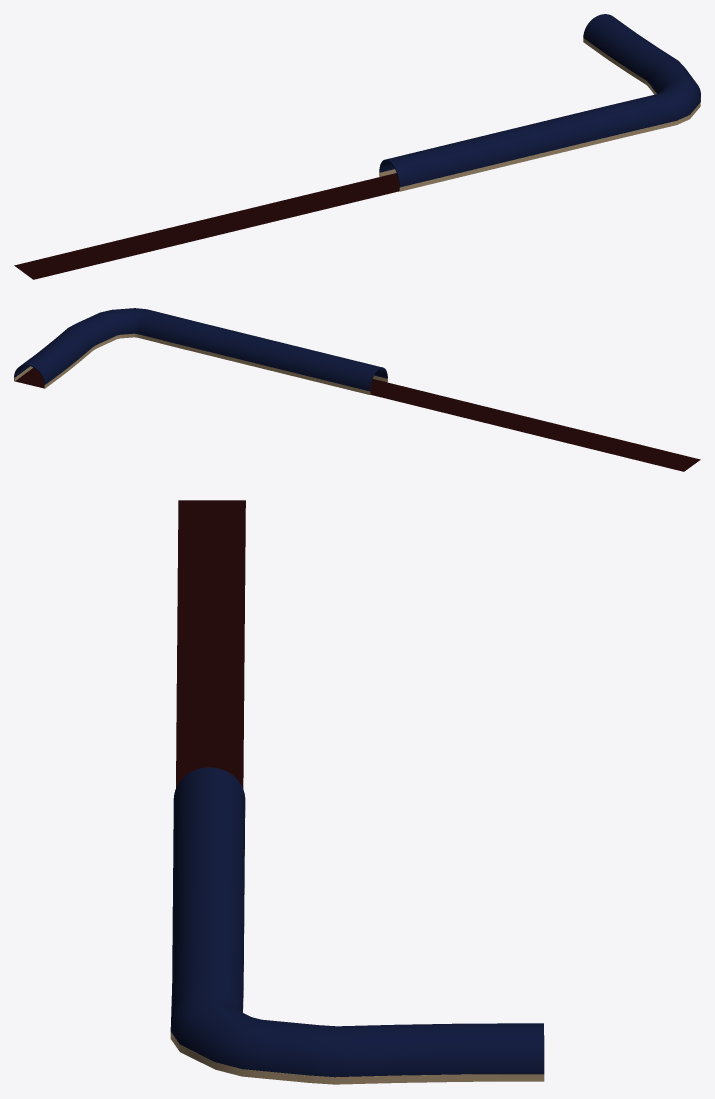
The model's file is tunnel.fbx.
3 views of the same model, one above another, from view 1: azimuth 30°, elevation 25°; view 2: azimuth 150°, elevation 25°; view 3: azimuth 270°, elevation 25° (orthographic). The views are drawn at different scales.
Parts seen in each view (by area): view 1: geo2; view 2: geo2; view 3: geo2.
Boxes of the visible parts, bbox=[...] form: geo2: bbox=[14, 14, 700, 279]; geo2: bbox=[14, 308, 700, 471]; geo2: bbox=[170, 500, 544, 1084].
Size of the model in its own units: 1925 by 61.07 by 520.
